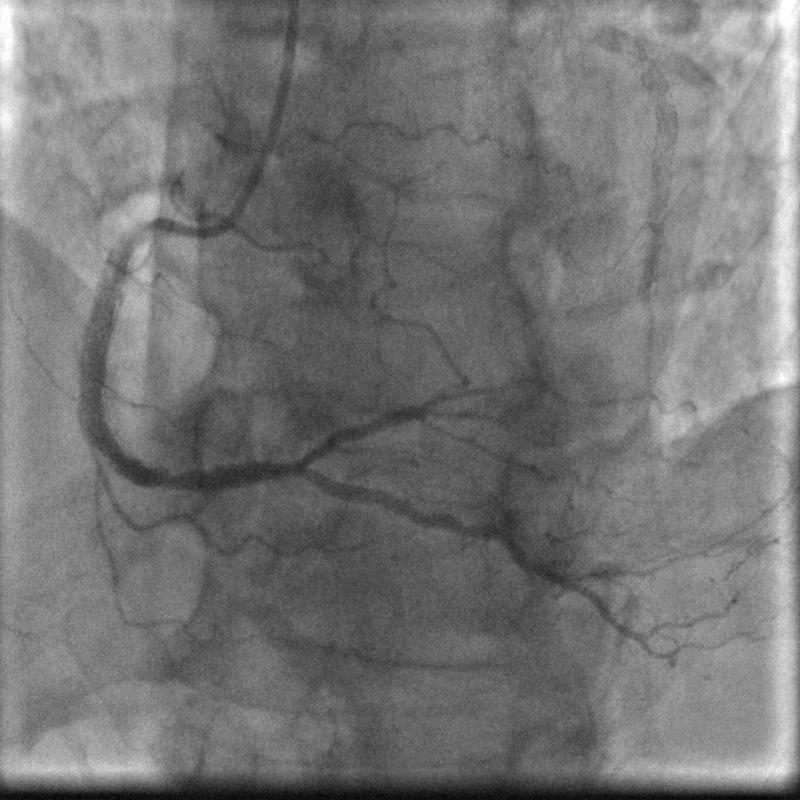Stenosis: (115, 208, 173, 248)
